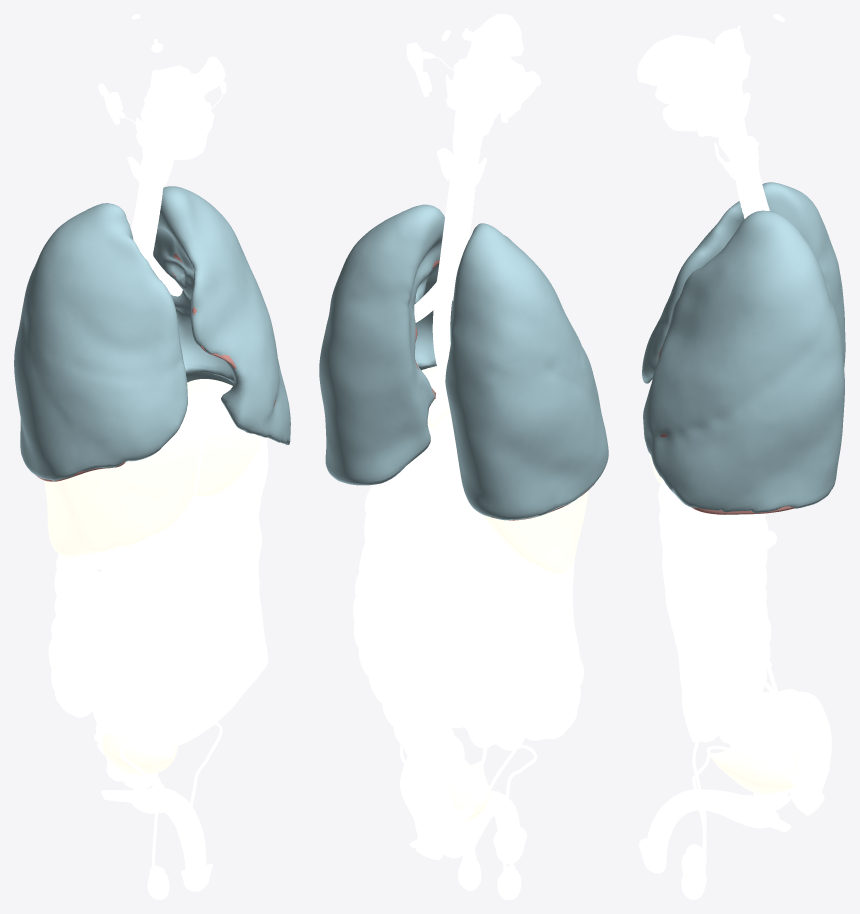
File: visceral.glb
The picture shows the model from 3 angles, left to right: view 1: azimuth 30°, elevation 25°; view 2: azimuth 150°, elevation 25°; view 3: azimuth 270°, elevation 25°; orthographic projection. The views are drawn at different scales.
Parts seen in each view (by area): view 1: Pleura, Greater omentum, Liver, Ascending colon, Corpus cavernosum of penis, Stomach, Gingiva, Mucosa of nasal cavity, Urinary bladder, Trachea, Mucosa of stomach, Parotid gland.l (+4 smaller); view 2: Pleura, Jejunum, Descending colon, Ascending colon, Sigmoid colon, Liver, Oesophagus, Duodenum, Free taenia, Stomach, Pancreas, Oropharynx (+18 smaller); view 3: Pleura, Greater omentum, Descending colon, Sigmoid colon, Corpus cavernosum of penis, Mucosa of nasal cavity, Urinary bladder, Gingiva, Mesocolic taenia, Nasopharynx, Stomach, Parotid gland.l (+13 smaller).
Boxes of the visible parts, x1,y1,x2,y2 form: Pleura: (14,186,290,480); Greater omentum: (65,493,268,747); Liver: (44,379,260,556); Ascending colon: (48,554,97,717); Corpus cavernosum of penis: (101,777,206,869); Stomach: (170,436,268,533); Gingiva: (135,101,211,159); Mucosa of nasal cavity: (159,65,210,128); Urinary bladder: (102,731,177,775); Trachea: (133,184,163,260); Mucosa of stomach: (227,461,263,509); Parotid gland.l: (191,56,225,96); Pleura: (319,204,608,520); Jejunum: (391,523,542,750); Descending colon: (354,484,464,775); Ascending colon: (518,560,583,738); Sigmoid colon: (400,727,464,859); Liver: (421,366,588,573); Oesophagus: (432,165,469,437); Duodenum: (449,521,526,597); Free taenia: (380,503,527,741); Stomach: (407,413,462,483); Pancreas: (390,480,507,558); Oropharynx: (451,71,520,129); Pleura: (642,182,845,513); Greater omentum: (659,511,728,743); Descending colon: (715,530,796,755); Sigmoid colon: (788,691,831,815); Corpus cavernosum of penis: (646,789,791,854); Mucosa of nasal cavity: (637,35,706,86); Urinary bladder: (710,748,798,794); Gingiva: (655,82,718,131); Mesocolic taenia: (720,536,795,739); Nasopharynx: (705,39,743,89); Stomach: (658,482,740,537); Parotid gland.l: (715,84,750,123).
Size of the model in its own units: 0.2634 by 0.8931 by 0.1926.
